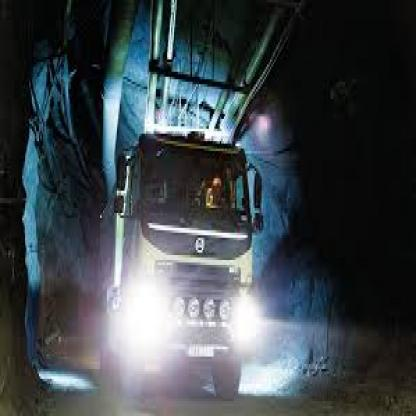dump_truck: (100, 111, 287, 389)
